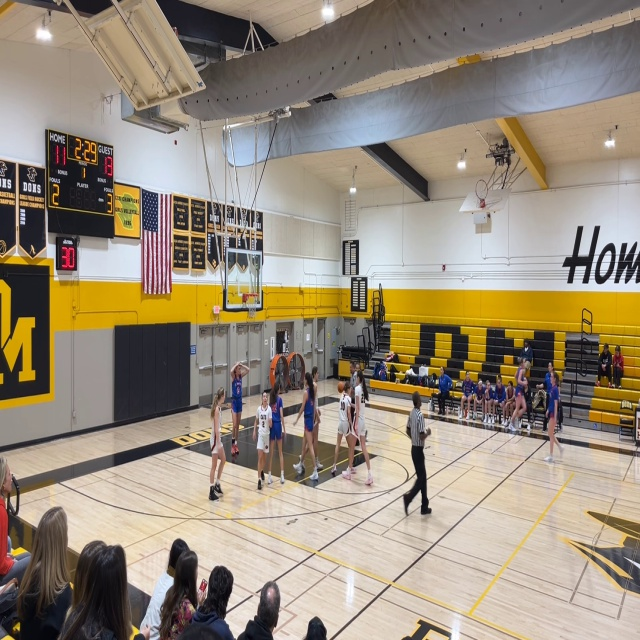Basketball: (337, 382, 345, 392)
